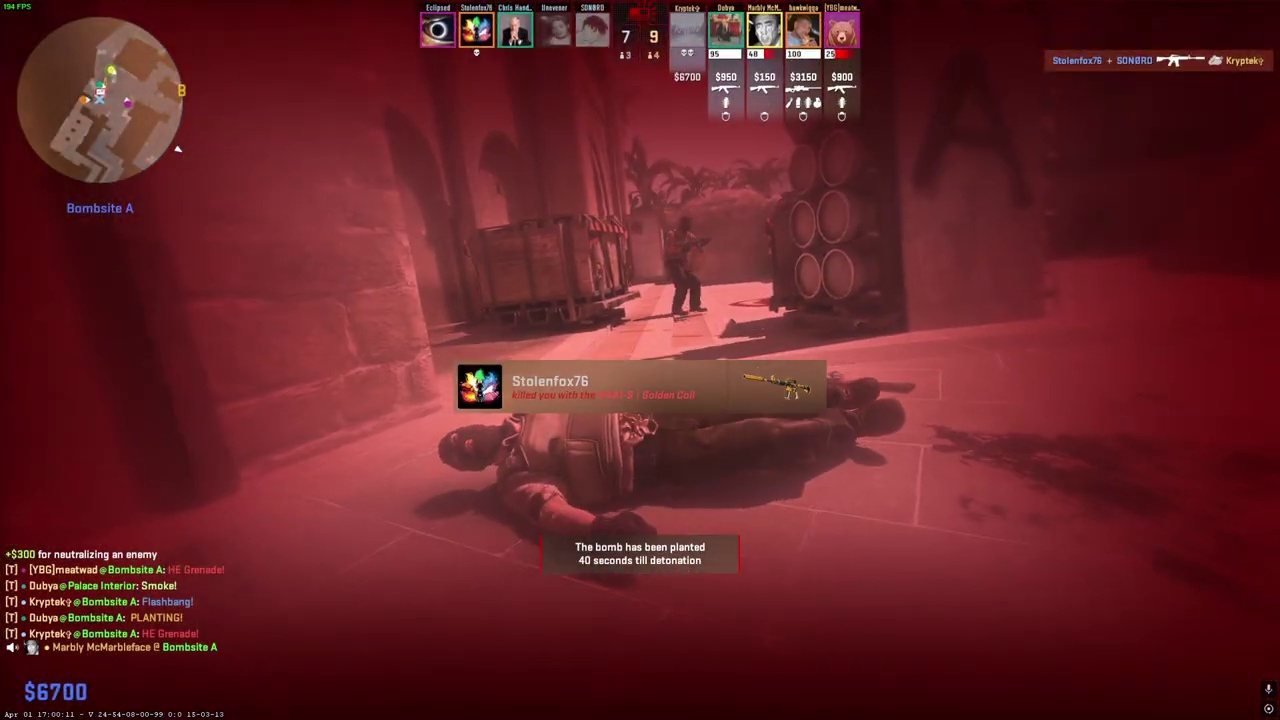Terrorist: (663, 214, 708, 320)
